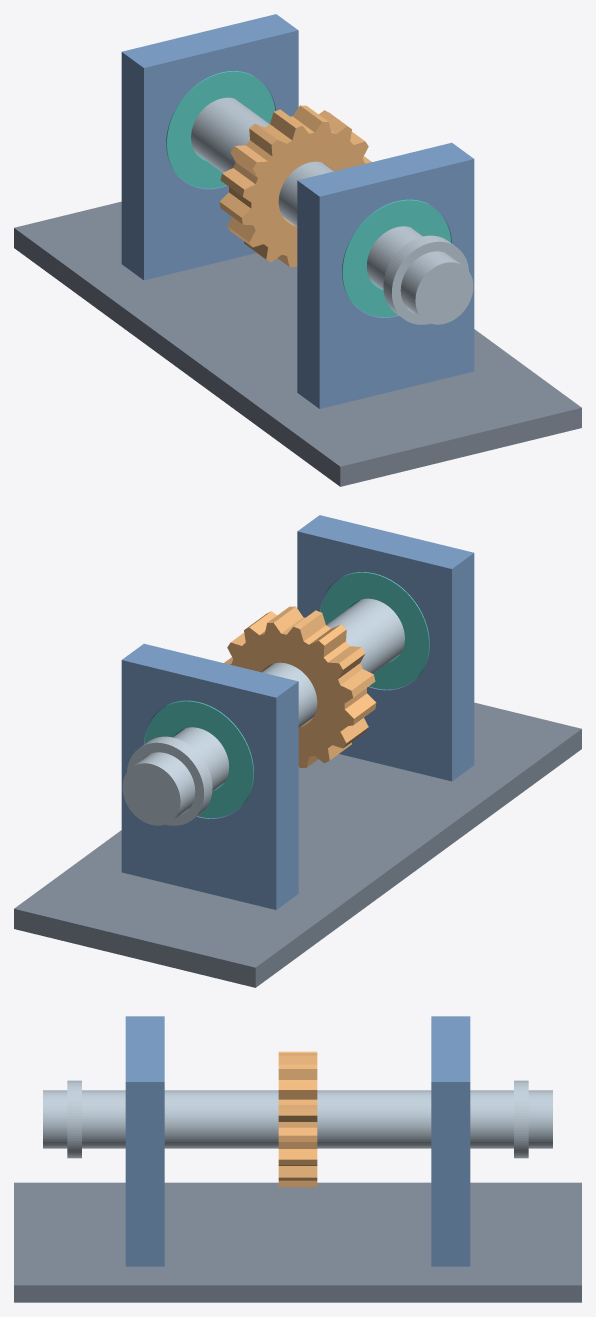
File: assembly.glb
The picture shows the model from 3 angles, top to bottom: view 1: azimuth 30°, elevation 25°; view 2: azimuth 150°, elevation 25°; view 3: azimuth 270°, elevation 25°; orthographic projection. The views are drawn at different scales.
Parts seen in each view (by area): view 1: base, rear_housing, front_housing, gear, shaft, front_bearing, rear_bearing, rear_retainer; view 2: base, front_housing, rear_housing, gear, shaft, rear_bearing, front_bearing, front_retainer; view 3: base, shaft, front_housing, rear_housing, gear, front_retainer, rear_retainer.
Part boxes in pixels (x1,y1,x2,y2): base: (14,201,581,486); rear_housing: (297,142,474,408); front_housing: (121,14,298,280); gear: (219,105,371,266); shaft: (191,97,473,324); front_bearing: (166,71,275,188); rear_bearing: (342,199,451,317); rear_retainer: (383,235,468,324); base: (14,702,581,987); front_housing: (121,643,298,909); rear_housing: (297,515,474,781); gear: (224,606,376,767); shaft: (122,598,404,825); rear_bearing: (320,572,429,689); front_bearing: (144,700,253,818); front_retainer: (127,736,212,825); base: (14,1182,581,1302); shaft: (43,1090,552,1148); front_housing: (431,1016,470,1266); rear_housing: (125,1016,164,1266); gear: (278,1051,317,1187); front_retainer: (514,1080,528,1158); rear_retainer: (67,1080,81,1158).
Bounding box in the file's own units: 0.0527 × 0.0485 × 0.1234.
